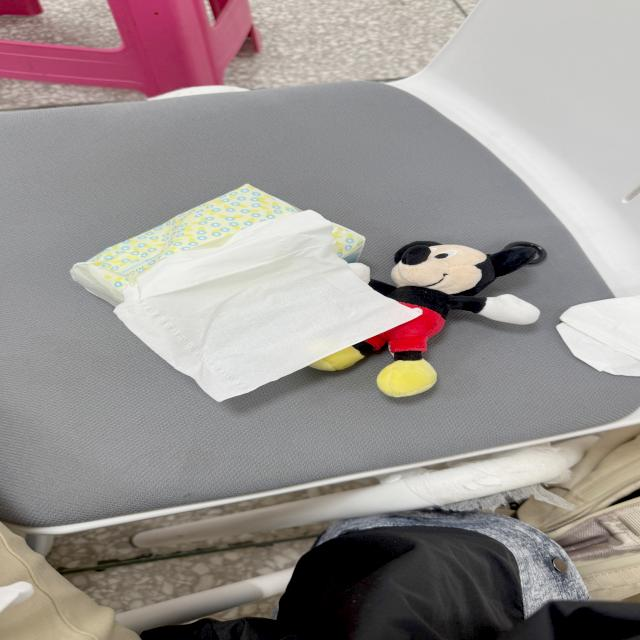mickey: (312, 242, 546, 397)
tissue: (115, 211, 420, 400), (71, 184, 299, 305), (557, 297, 639, 376)
